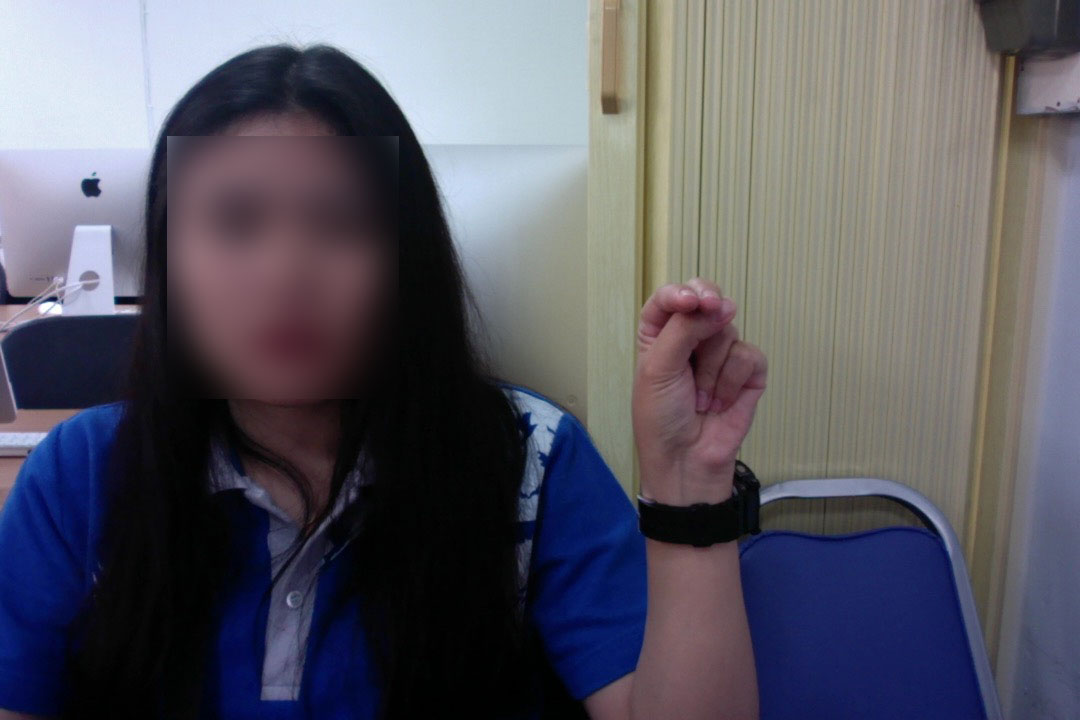nor: (620, 266, 771, 480)
